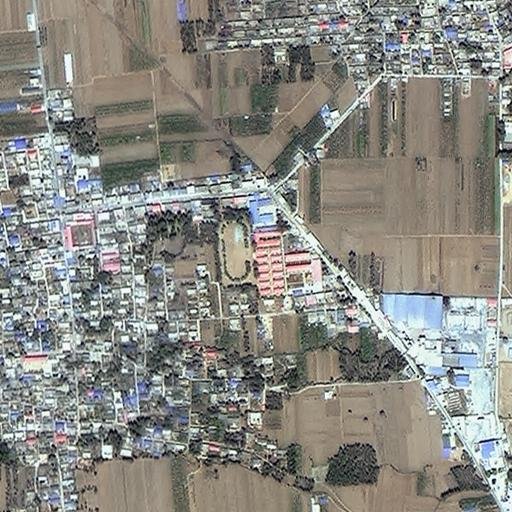school: (217, 215, 304, 299)
